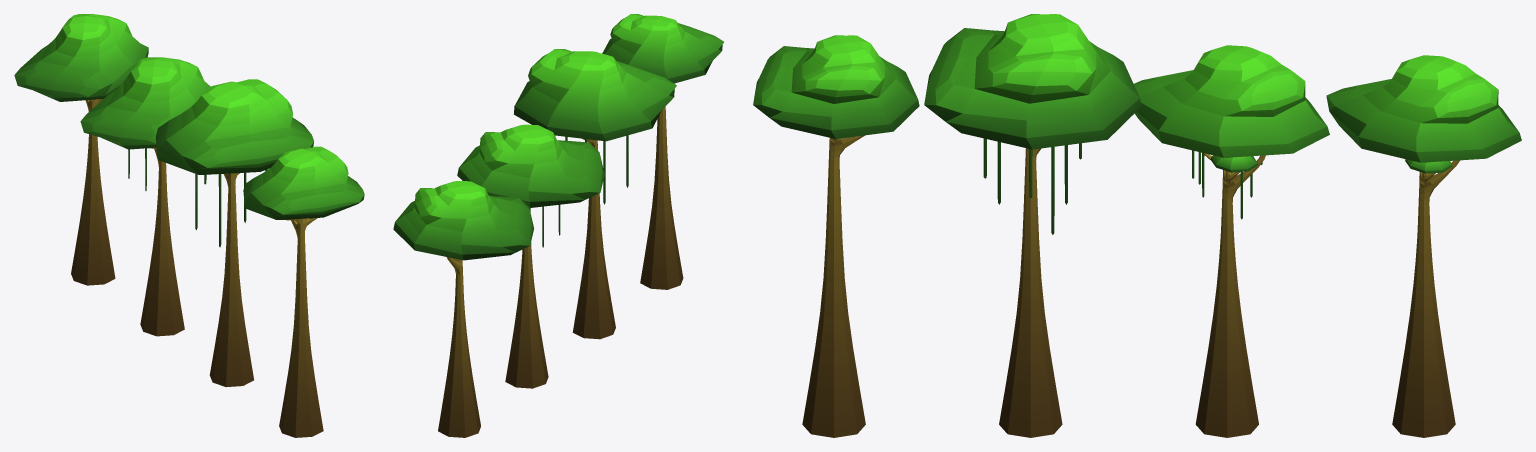
File: AndrewTranGradientJungleTrees.fbx
3 views of the same model, side by side, from view 1: azimuth 30°, elevation 25°; view 2: azimuth 150°, elevation 25°; view 3: azimuth 270°, elevation 25° (orthographic). The views are drawn at different scales.
Parts seen in each view (by area): view 1: JungleTreeTall2, JungleTreeShort2, JungleTreeShort1, JungleTreeTall1; view 2: JungleTreeTall2, JungleTreeShort1, JungleTreeShort2, JungleTreeTall1; view 3: JungleTreeTall2, JungleTreeShort1, JungleTreeShort2, JungleTreeTall1.
Boxes of the visible parts, x1,y1,x2,y2 form: JungleTreeTall2: [156, 79, 313, 387]; JungleTreeShort2: [14, 14, 148, 285]; JungleTreeShort1: [80, 57, 210, 336]; JungleTreeTall1: [243, 146, 364, 437]; JungleTreeTall2: [513, 49, 676, 339]; JungleTreeShort1: [457, 124, 604, 388]; JungleTreeShort2: [393, 181, 533, 437]; JungleTreeTall1: [602, 14, 723, 289]; JungleTreeTall2: [924, 14, 1141, 437]; JungleTreeShort1: [1134, 45, 1329, 437]; JungleTreeShort2: [1326, 55, 1521, 437]; JungleTreeTall1: [753, 35, 919, 437].
Bounding box in the file's own units: 1234 × 2254 × 3911.
